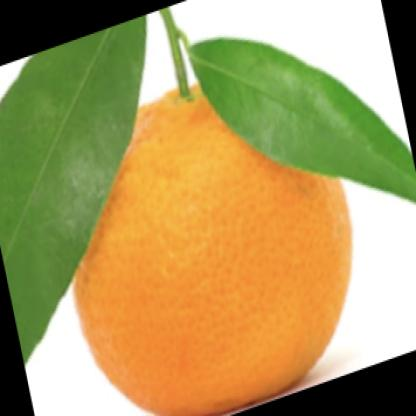fresh: (74, 78, 352, 416)
